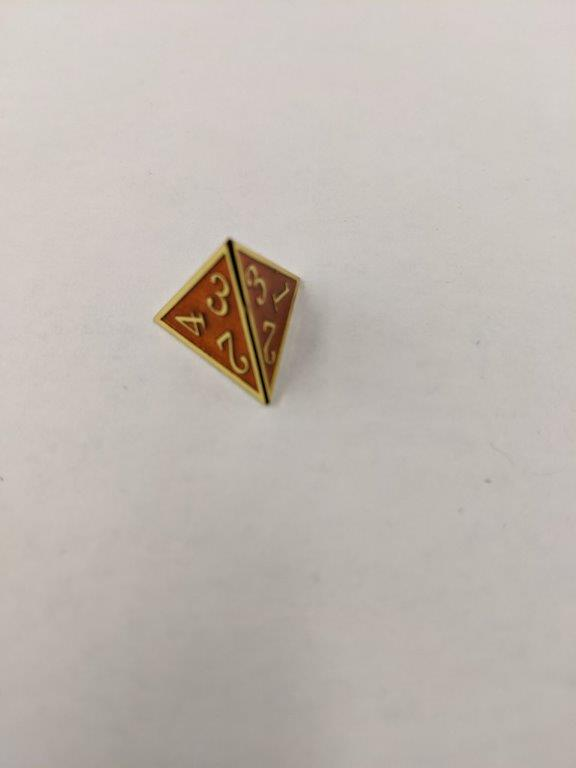d4-3: (145, 232, 310, 414)
